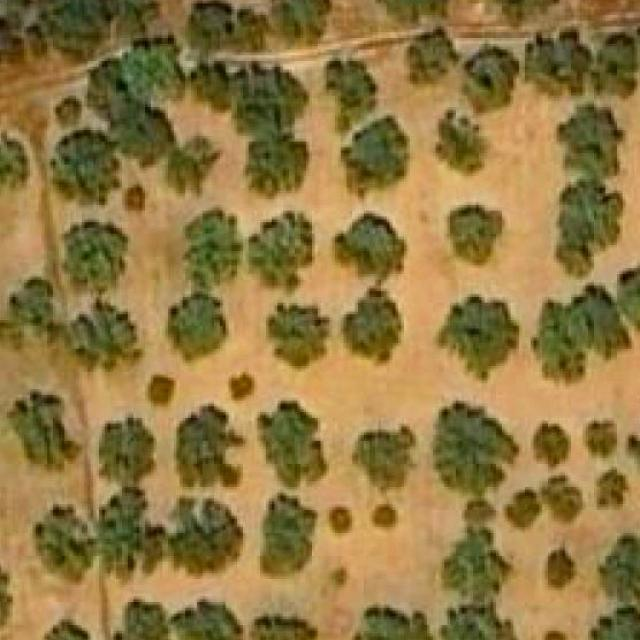Tree: (534, 282, 626, 383), (432, 294, 522, 384), (436, 403, 511, 493), (177, 404, 250, 488), (258, 400, 327, 487), (7, 393, 82, 473), (341, 116, 410, 197), (335, 210, 407, 286), (162, 502, 241, 571), (249, 208, 312, 292), (226, 61, 298, 130), (442, 527, 515, 594), (260, 496, 318, 580), (56, 130, 118, 208), (93, 498, 154, 571), (64, 306, 137, 367), (563, 110, 626, 180), (62, 220, 120, 295), (343, 289, 398, 364), (556, 185, 611, 260), (462, 44, 519, 113), (180, 214, 237, 283), (266, 306, 329, 367), (36, 510, 93, 577), (116, 38, 178, 99), (360, 426, 416, 493), (164, 291, 220, 355), (0, 282, 53, 349), (96, 414, 148, 482), (448, 202, 505, 264), (436, 110, 488, 174), (245, 138, 301, 194), (530, 30, 582, 90), (113, 107, 168, 162), (321, 61, 373, 119), (408, 27, 460, 84), (441, 602, 519, 640), (352, 604, 433, 640), (588, 38, 638, 96), (174, 599, 243, 640), (114, 596, 171, 640), (602, 533, 640, 596), (186, 4, 232, 56), (168, 139, 214, 191), (275, 0, 332, 41), (364, 0, 459, 24), (490, 0, 563, 30), (0, 134, 28, 202), (502, 487, 545, 531), (251, 613, 318, 640), (531, 420, 571, 464), (613, 265, 640, 326), (582, 420, 617, 464), (622, 406, 640, 490), (588, 613, 640, 640), (44, 619, 110, 640), (598, 468, 626, 514), (548, 476, 577, 519), (542, 550, 571, 591), (145, 374, 177, 406), (229, 370, 258, 404), (329, 504, 352, 539), (122, 185, 147, 213), (468, 492, 490, 522), (55, 102, 76, 125), (329, 564, 350, 585), (375, 508, 396, 525), (540, 631, 566, 640)
